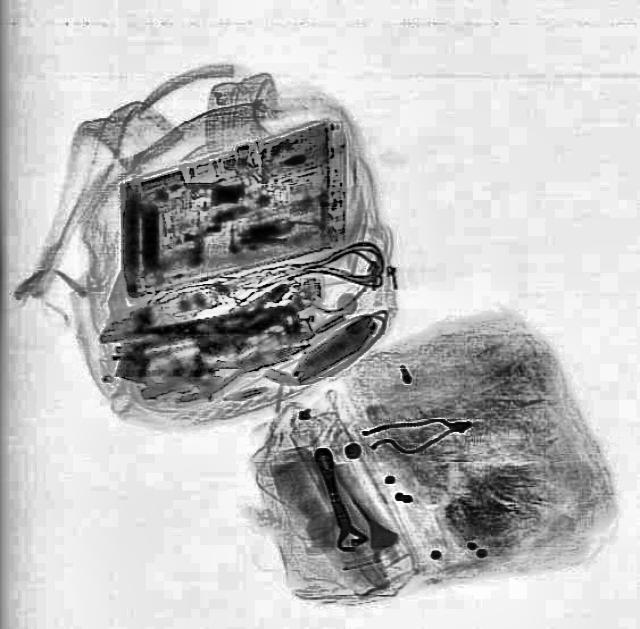Pliers: (161, 328, 317, 408)
